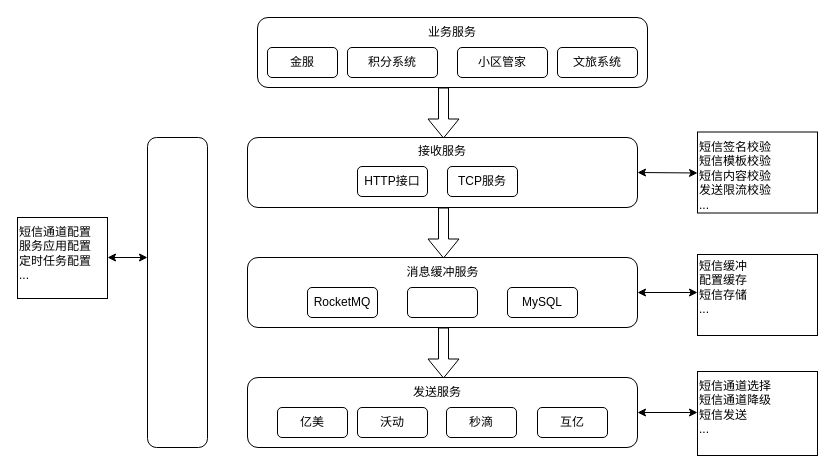
Image size: 835x473. Some labels were removed from this diagram. The centre of each missing label's shape, as x and y in pixels:
Redis: (x=442, y=302)
管理服务: (x=177, y=292)
